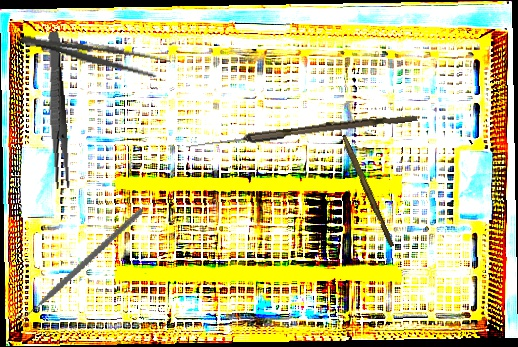Chopper: (11, 181, 144, 344)
Dressing Forceps: (18, 27, 172, 82), (44, 31, 71, 189)
Scalpel Handle: (338, 134, 397, 248)
Surgical Spoon: (185, 109, 418, 154)
